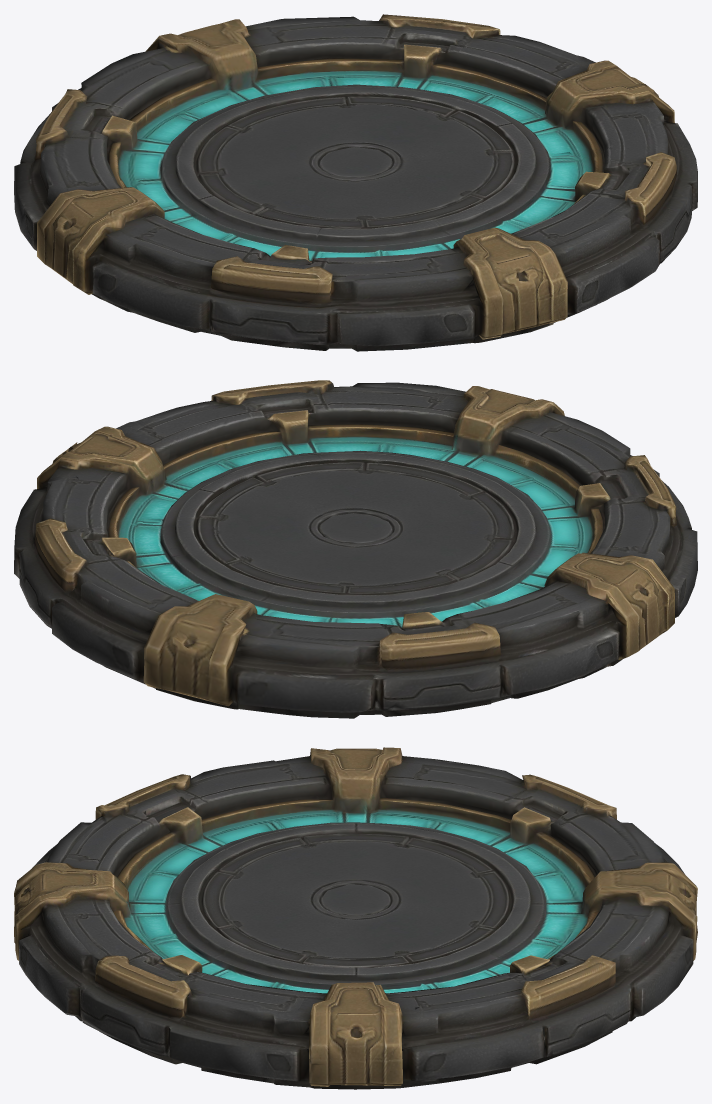
The model's file is portal_platform.glb.
3 renders of one model, top to bottom at view 1: azimuth 30°, elevation 25°; view 2: azimuth 150°, elevation 25°; view 3: azimuth 270°, elevation 25°, orthographic.
Parts seen in each view (by area): view 1: tripo_node_9d597733-c5f1-44cb-83d0-86f4cf7f057d; view 2: tripo_node_9d597733-c5f1-44cb-83d0-86f4cf7f057d; view 3: tripo_node_9d597733-c5f1-44cb-83d0-86f4cf7f057d.
Boxes of the visible parts, x1=… form: tripo_node_9d597733-c5f1-44cb-83d0-86f4cf7f057d: x1=14, y1=14, x2=697, y2=351; tripo_node_9d597733-c5f1-44cb-83d0-86f4cf7f057d: x1=14, y1=380, x2=697, y2=718; tripo_node_9d597733-c5f1-44cb-83d0-86f4cf7f057d: x1=14, y1=747, x2=697, y2=1089.
Bounding box in the file's own units: 0.9796 × 0.1233 × 0.9787.
Materials: 1 (1 with a texture image).
